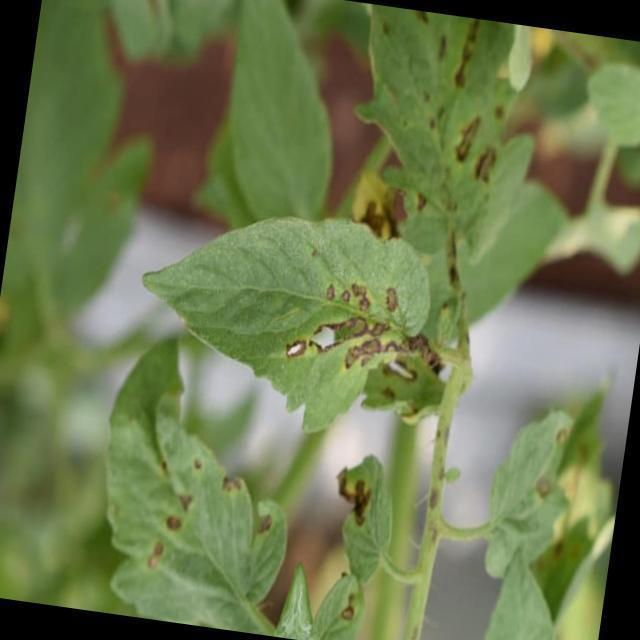Bacterial Spot: (250, 250, 436, 398), (412, 14, 520, 225), (128, 442, 230, 592)
